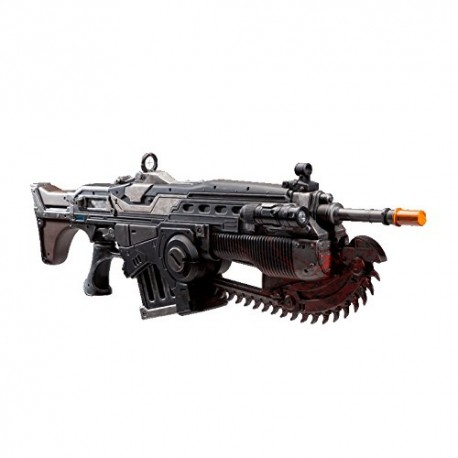Arma Falsa: (30, 148, 428, 325)
